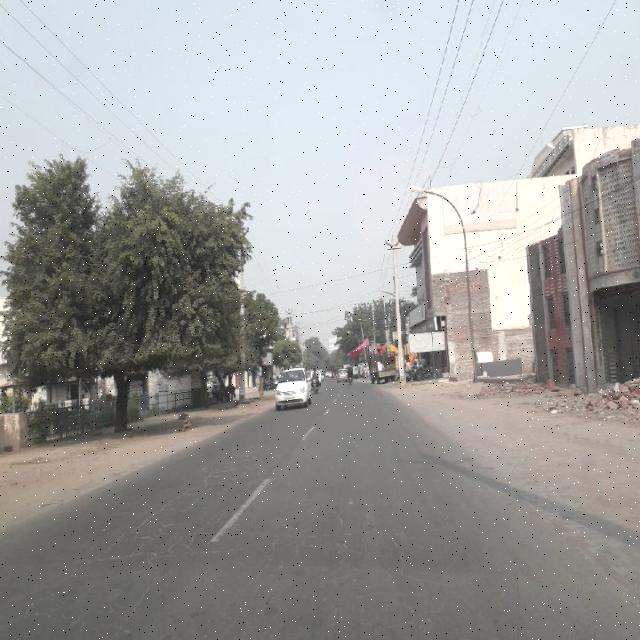D20: (110, 468, 236, 570)
